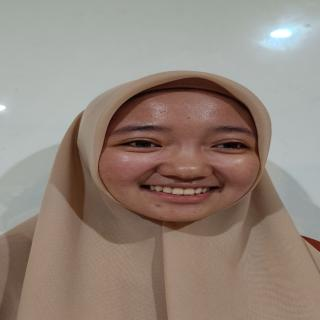Senang: (97, 83, 262, 226)
